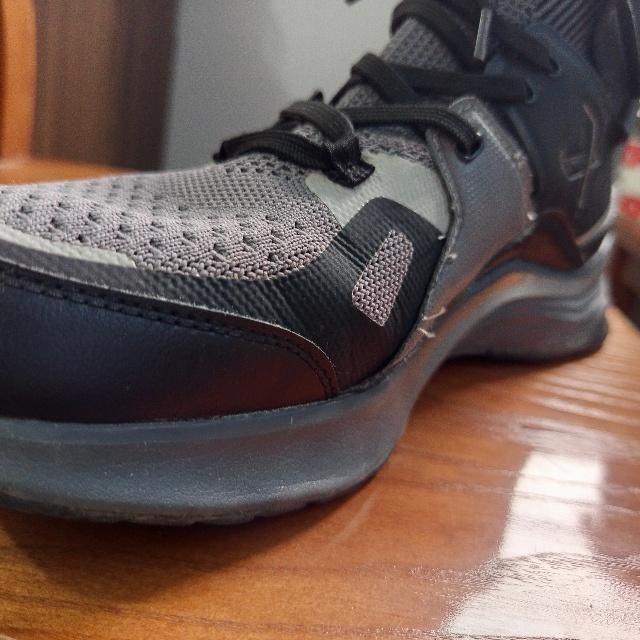broken: (412, 306, 444, 344)
